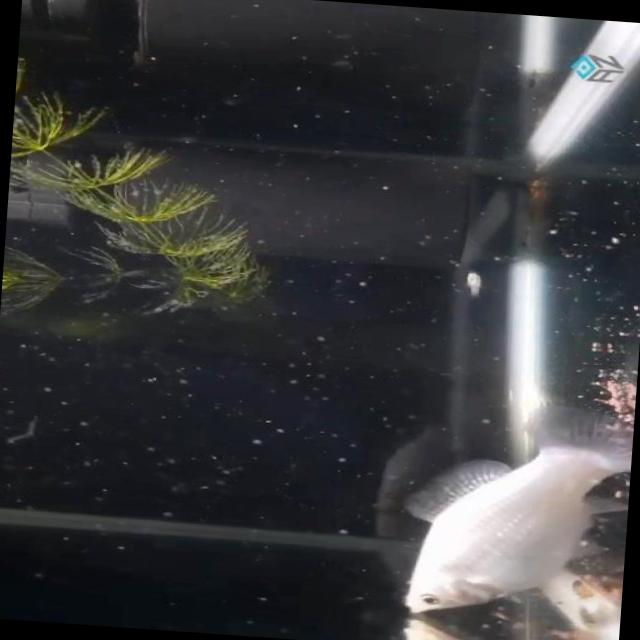PlatyFish: (366, 380, 636, 636)
